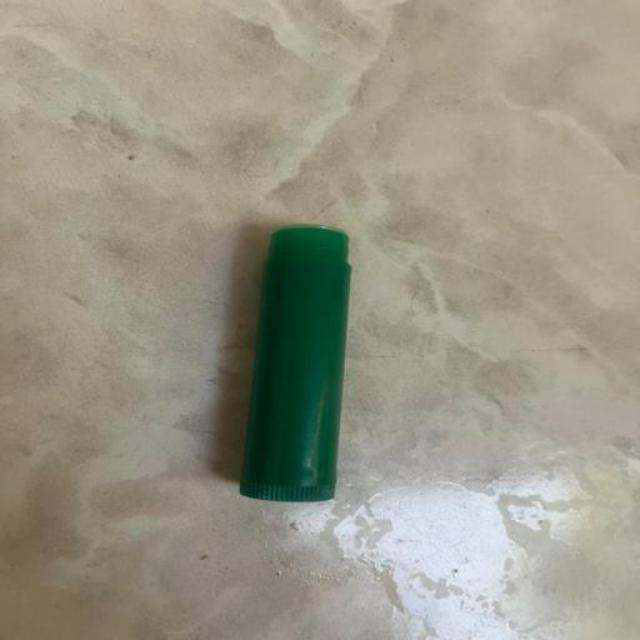HDPE: (183, 201, 461, 546)
